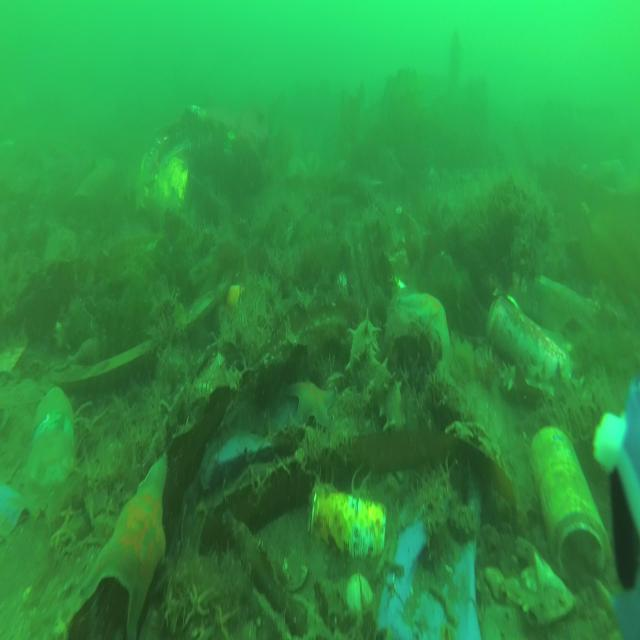holothurian: (344, 308, 408, 433), (499, 360, 583, 413)
starfish: (66, 452, 168, 640), (383, 294, 452, 367), (284, 378, 336, 428), (182, 584, 211, 631)
